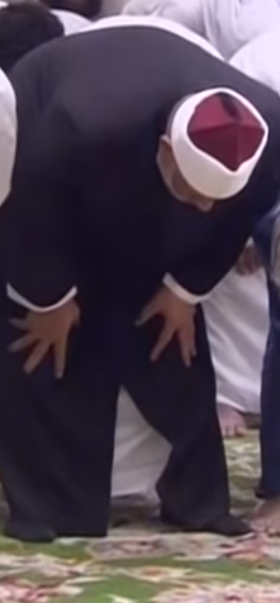ruku: (11, 14, 280, 550)
